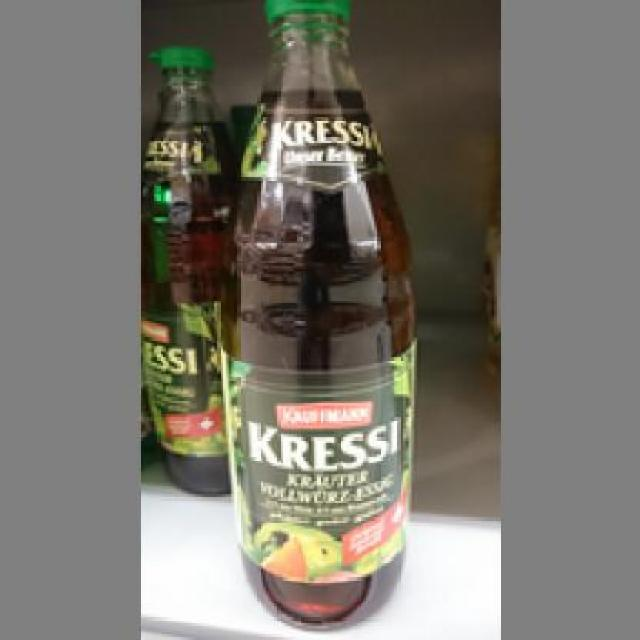Vinegar: (223, 0, 420, 629), (142, 40, 232, 497)
